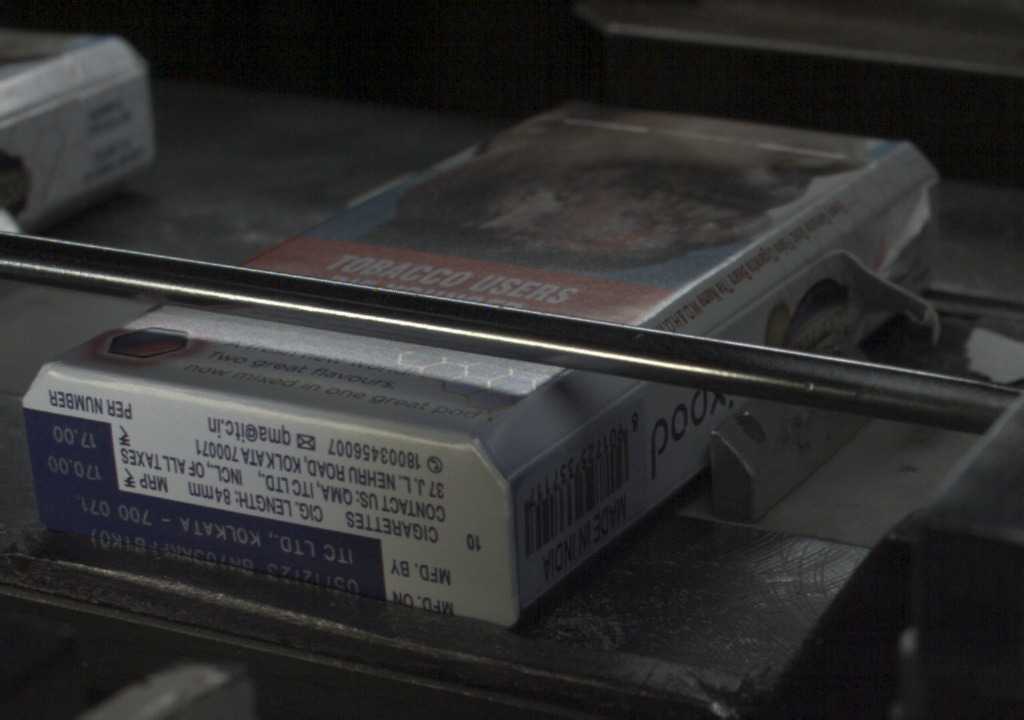g_bottom: (22, 359, 522, 628)
g_label: (33, 494, 386, 598)
g_lmiter: (720, 265, 809, 333), (509, 429, 578, 478), (578, 383, 642, 429)
ng_lmiter: (829, 226, 897, 297)
ng_miter: (897, 178, 939, 239)
price: (28, 418, 117, 491)
